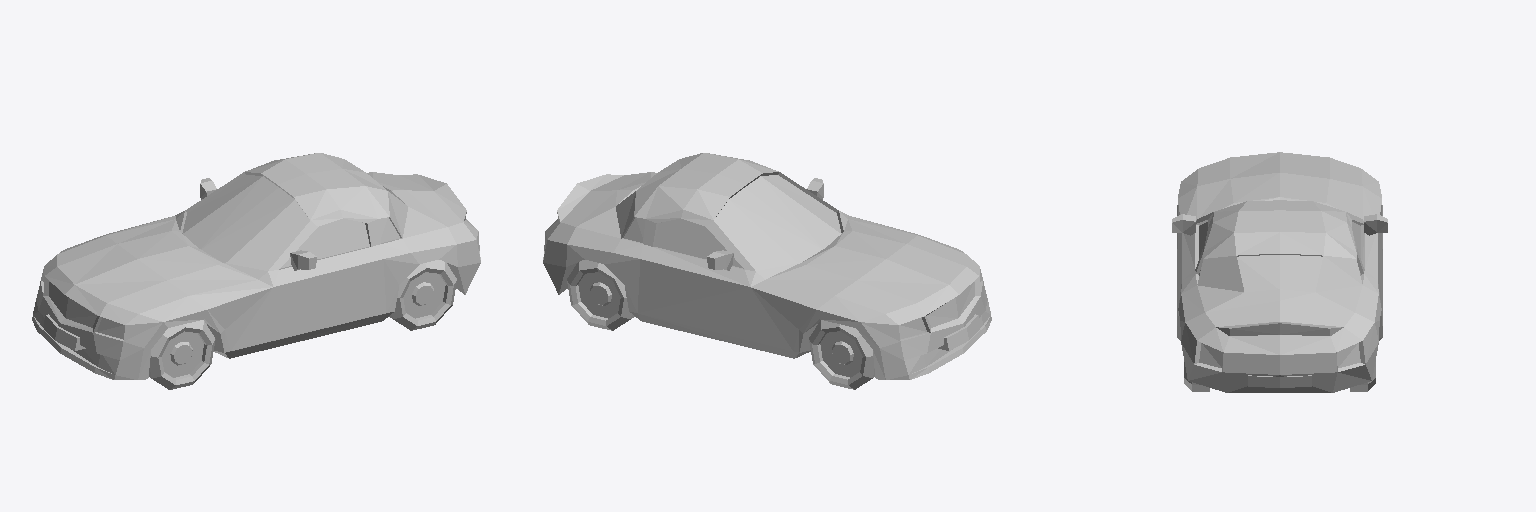
The model's file is racecar.obj.
3 views of the same model, side by side, from view 1: azimuth 30°, elevation 25°; view 2: azimuth 150°, elevation 25°; view 3: azimuth 270°, elevation 25° (orthographic).
Parts seen in each view (by area): view 1: Car 6 Model, Wheel6-2, Wheel6-1; view 2: Car 6 Model, Wheel6-4, Wheel6-3; view 3: Car 6 Model.
Part boxes in pixels (left/top/right/bottom): Car 6 Model: left=32, top=153, right=480, bottom=379; Wheel6-2: left=149, top=320, right=215, bottom=389; Wheel6-1: left=389, top=260, right=456, bottom=330; Car 6 Model: left=543, top=153, right=991, bottom=379; Wheel6-4: left=809, top=320, right=874, bottom=389; Wheel6-3: left=567, top=260, right=634, bottom=330; Car 6 Model: left=1172, top=152, right=1387, bottom=392.
Size of the model in its own units: 4.58 by 1.52 by 2.13.